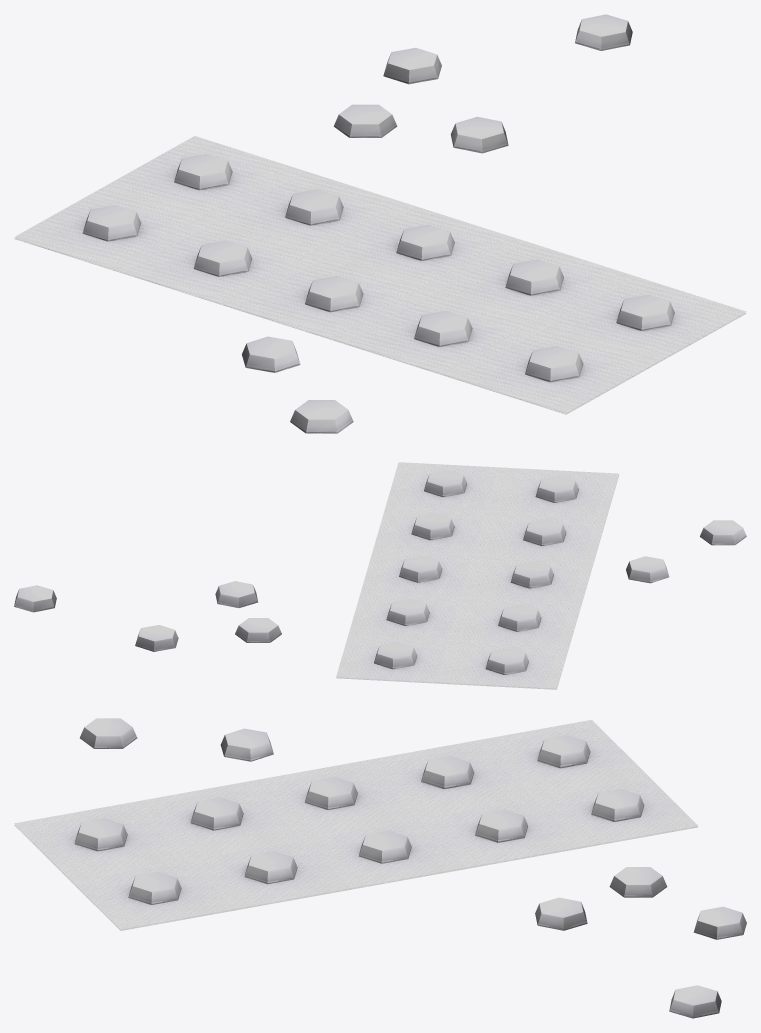
The model's file is ShaShouJia_01_yaopian_01.FBX.
The picture shows the model from 3 angles, top to bottom: view 1: azimuth 30°, elevation 25°; view 2: azimuth 150°, elevation 25°; view 3: azimuth 270°, elevation 25°; orthographic projection. The views are drawn at different scales.
Parts seen in each view (by area): view 1: ShaShouJia_01_yaopian_01; view 2: ShaShouJia_01_yaopian_01; view 3: ShaShouJia_01_yaopian_01.
Boxes of the visible parts, left/top/right/bottom form: ShaShouJia_01_yaopian_01: left=14, top=14, right=746, bottom=433; ShaShouJia_01_yaopian_01: left=14, top=462, right=746, bottom=689; ShaShouJia_01_yaopian_01: left=14, top=718, right=746, bottom=1018.
Size of the model in its own units: 135 by 2.63 by 140.
